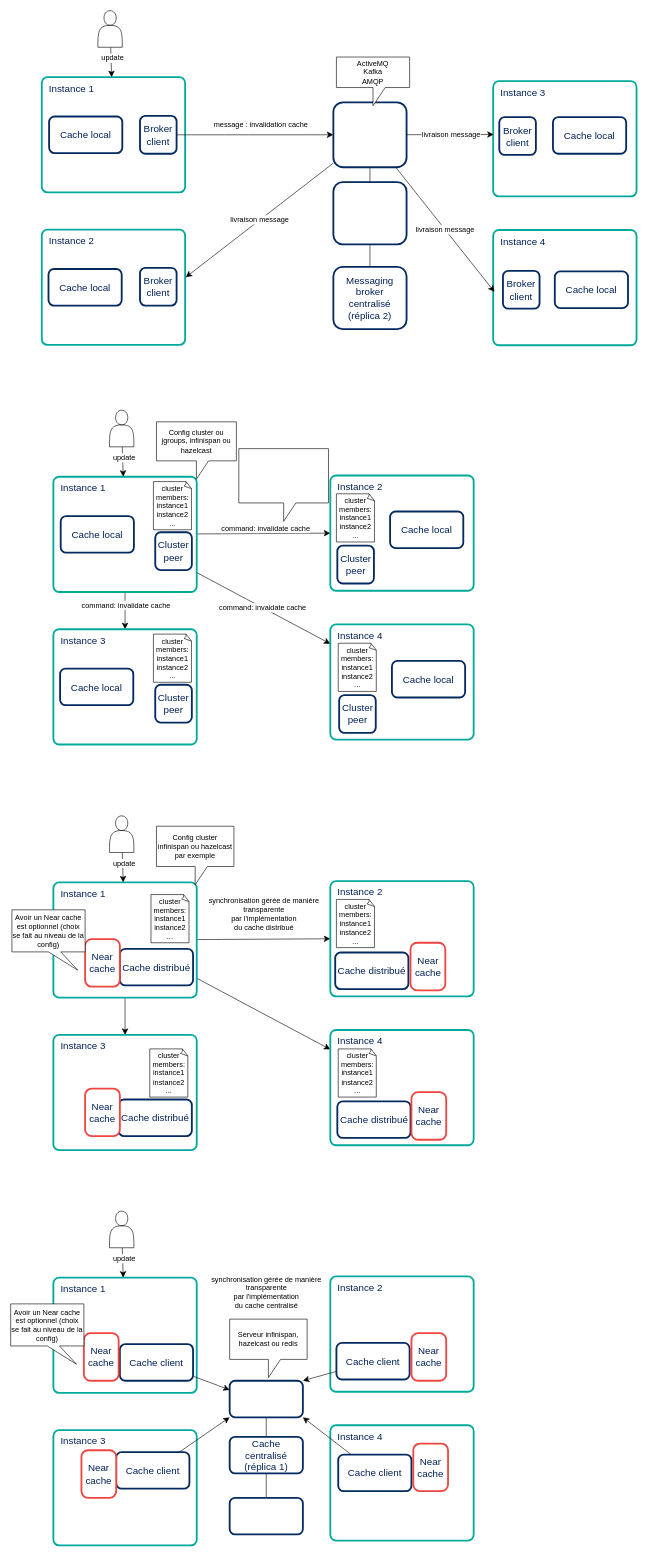
Some shapes in this 648 by 1557 pixel diagram are drawn without their labels. Here are the shapes that lost their labels. From the top down, the centre of each, then its label:
point 369,134: Messaging broker centralisé
point 369,213: Messaging broker centralisé (réplica 1)
point 283,484: implémenté sous forme de message jgroups, event VertX ou task hazelcast
point 265,1399: Cache centralisé
point 265,1516: Cache centralisé (réplica 2)
